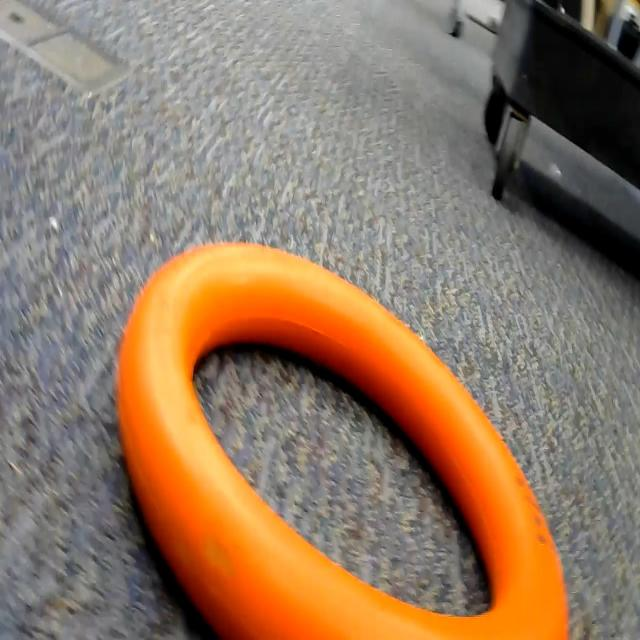note: (100, 212, 579, 640)
